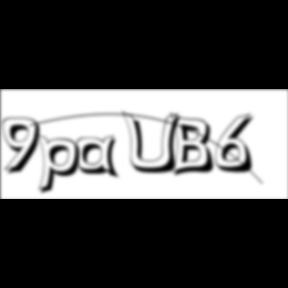6: (216, 112, 260, 176)
9: (2, 117, 48, 177)
B: (170, 111, 220, 179)
U: (122, 110, 186, 176)
a: (76, 135, 124, 182)
p: (37, 132, 87, 198)
